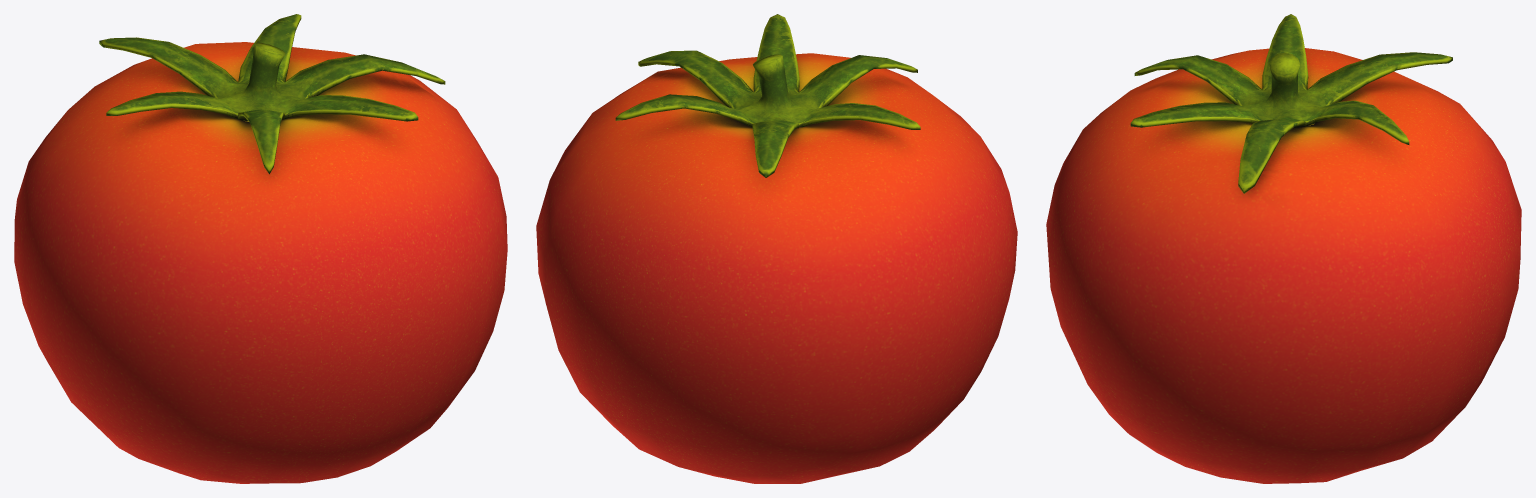
The picture shows the model from 3 angles, left to right: view 1: azimuth 30°, elevation 25°; view 2: azimuth 150°, elevation 25°; view 3: azimuth 270°, elevation 25°; orthographic projection. The views are drawn at different scales.
Visible parts, largest first — view 1: T_trn_Tomato; view 2: T_trn_Tomato; view 3: T_trn_Tomato.
Boxes of the visible parts, box(x1,y1,x2,y2) form: T_trn_Tomato: box(14, 14, 507, 483); T_trn_Tomato: box(536, 14, 1017, 483); T_trn_Tomato: box(1046, 14, 1521, 483).
Bounding box in the file's own units: 12.91 × 12.17 × 12.88.
1 material, 1 textured.
